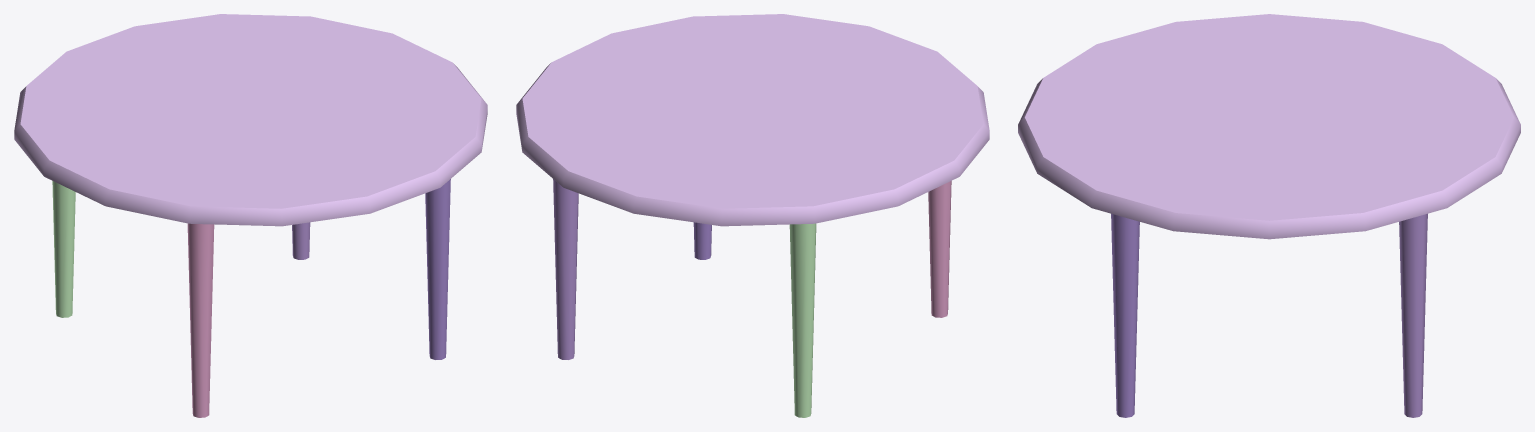
The picture shows the model from 3 angles, left to right: view 1: azimuth 30°, elevation 25°; view 2: azimuth 150°, elevation 25°; view 3: azimuth 270°, elevation 25°; orthographic projection. The views are drawn at different scales.
Parts seen in each view (by area): view 1: Object_4.092, Object_4, Object_4.022, Object_4.046, Object_4.070; view 2: Object_4.092, Object_4.046, Object_4.070, Object_4, Object_4.022; view 3: Object_4.092, Object_4.022, Object_4.070.
Boxes of the visible parts, box(x1,y1,x2,y2) form: Object_4.092: box(14, 14, 487, 226); Object_4: box(187, 223, 214, 417); Object_4.022: box(425, 179, 450, 359); Object_4.046: box(52, 181, 75, 317); Object_4.070: box(292, 222, 310, 259); Object_4.092: box(516, 14, 989, 226); Object_4.046: box(789, 223, 816, 417); Object_4.070: box(553, 179, 578, 359); Object_4: box(928, 181, 951, 317); Object_4.022: box(693, 222, 711, 259); Object_4.092: box(1018, 14, 1520, 239); Object_4.022: box(1111, 213, 1139, 417); Object_4.070: box(1399, 213, 1427, 417).
Size of the model in its own units: 1 by 0.5178 by 1.
